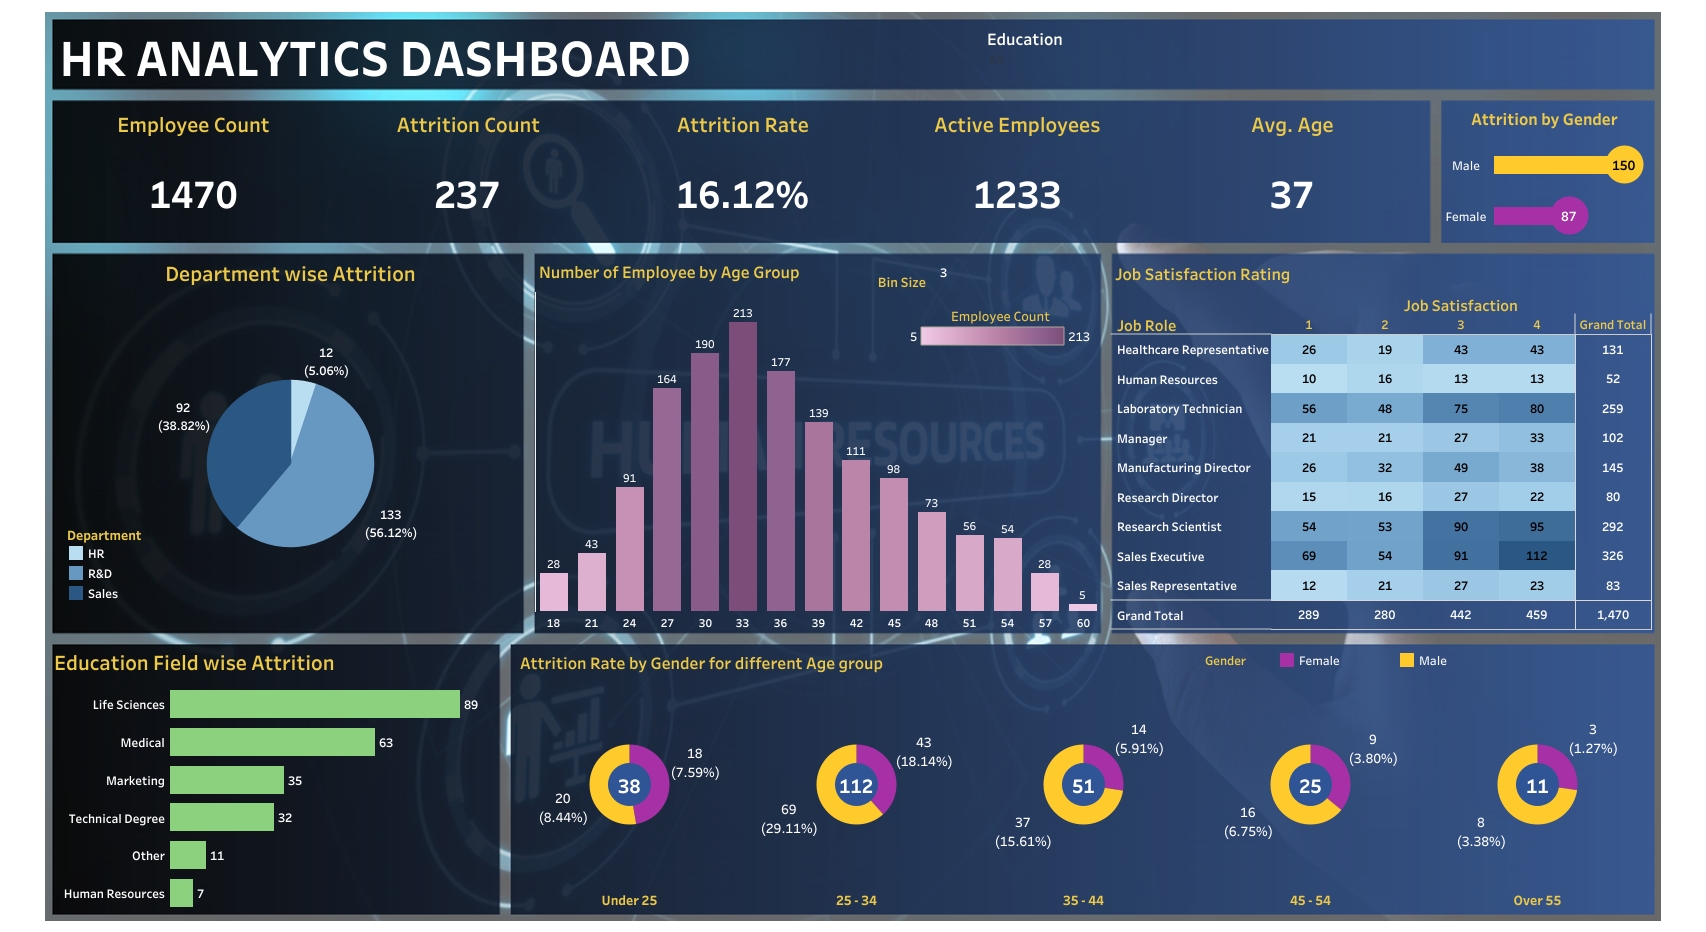

What the dashboard file says about the page in this screenshot:
{"tool":"tableau","page":{"name":"HR Analytics Dashboard","canvas":[1000,1000],"units":"permille","ordinal":0},"visuals":[{"type":"image","param":"Image/HR background final.png","box":[5.9,10.7,988.3,978.6]},{"type":"text","box":[33.7,22.7,485.4,74.9]},{"type":"filter","title":"Number of Employee by Age Group","param":"[federated.1qr1p0f1hubwi61dincgu1s3zsbl].[none:Education:nk]","box":[578.3,28.1,212.3,76.2]},{"type":"worksheet","title":"Attrition by Gender","mark":"Automatic","rows":["Gender"],"cols":["Calculation_635851988498427904","Calculation_635851988498427904"],"box":[842.6,108.3,124.5,149.7]},{"type":"worksheet","title":"KPI","mark":"Automatic","box":[32.9,111,804.5,148.4]},{"type":"worksheet","title":"Department wise Attrition","mark":"Pie","box":[32.2,271.4,276,405.1]},{"type":"worksheet","title":"Number of Employee by Age Group","mark":"Automatic","rows":["Employee Count"],"cols":["Age (bin)"],"box":[313.3,272.7,332.4,403.7]},{"type":"worksheet","title":"Job Satisfaction Rating","mark":"Square","rows":["Job Role"],"cols":["Job Satisfaction"],"box":[650.8,274.1,317,401.1]},{"type":"parameter","param":"[Parameters].[Parameter 1]","box":[507.3,282.1,134.7,38.8]},{"type":"legend","title":"Number of Employee by Age Group","param":"[federated.1qr1p0f1hubwi61dincgu1s3zsbl].[sum:Employee Count:qk]","box":[530.8,323.5,110.5,68.2]},{"type":"legend","title":"Department wise Attrition","param":"[federated.1qr1p0f1hubwi61dincgu1s3zsbl].[none:Department:nk]","box":[38.8,560.2,80.5,112.3]},{"type":"worksheet","title":"Education Field wise Attrition","mark":"Automatic","rows":["Education Field"],"cols":["Calculation_635851988498427904"],"box":[29.3,688.5,262.8,288.8]},{"type":"worksheet","title":"Attrition Rate by Gender for different Age group","mark":"Pie","rows":["Calculation_698339434036125697","Calculation_698339434036125697"],"cols":["CF_age band"],"box":[302.3,691.2,664.7,283.4]},{"type":"legend","title":"Attrition Rate by Gender for different Age group","param":"[federated.1qr1p0f1hubwi61dincgu1s3zsbl].[none:Gender:nk]","box":[705.7,696.5,250.4,29.4]}]}

Visuals, with their boxes on the dashboard's canvas, which has no fixed pixel size, in thousandths of its width and height (x1, y1, x2, y2). These are canvas units, not pixel positions in the 1706x932 screenshot, which may show the page scaled, cropped or inside an application window:
image: (x1=6, y1=11, x2=994, y2=989)
text: (x1=34, y1=23, x2=519, y2=98)
"Number of Employee by Age Group" filter: (x1=578, y1=28, x2=791, y2=104)
"Attrition by Gender" worksheet: (x1=843, y1=108, x2=967, y2=258)
"KPI" worksheet: (x1=33, y1=111, x2=837, y2=259)
"Department wise Attrition" worksheet (Pie marks): (x1=32, y1=271, x2=308, y2=676)
"Number of Employee by Age Group" worksheet: (x1=313, y1=273, x2=646, y2=676)
"Job Satisfaction Rating" worksheet (Square marks): (x1=651, y1=274, x2=968, y2=675)
parameter: (x1=507, y1=282, x2=642, y2=321)
"Number of Employee by Age Group" legend: (x1=531, y1=324, x2=641, y2=392)
"Department wise Attrition" legend: (x1=39, y1=560, x2=119, y2=672)
"Education Field wise Attrition" worksheet: (x1=29, y1=688, x2=292, y2=977)
"Attrition Rate by Gender for different Age group" worksheet (Pie marks): (x1=302, y1=691, x2=967, y2=975)
"Attrition Rate by Gender for different Age group" legend: (x1=706, y1=696, x2=956, y2=726)
